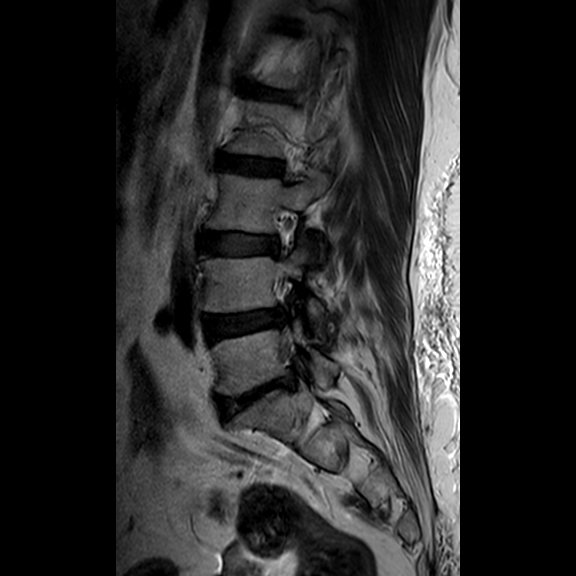RFS0: (257, 195, 305, 267)
